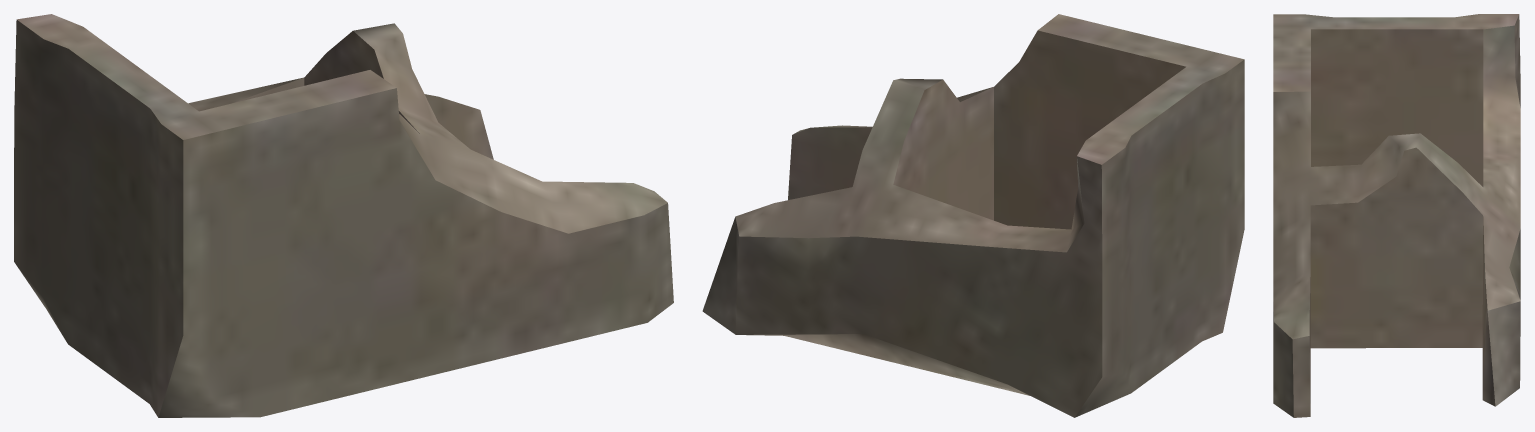
File: breeze_block_b.glb
3 views of the same model, side by side, from view 1: azimuth 30°, elevation 25°; view 2: azimuth 150°, elevation 25°; view 3: azimuth 270°, elevation 25° (orthographic). The views are drawn at different scales.
Visible parts, largest first — view 1: breeze_block_b; view 2: breeze_block_b; view 3: breeze_block_b.
Part boxes in pixels (box(x1,y1,x2,y2)): breeze_block_b: box(14, 14, 673, 417); breeze_block_b: box(702, 14, 1244, 417); breeze_block_b: box(1273, 14, 1520, 417).
Bounding box in the file's own units: 0.3774 × 0.2115 × 0.2142.
Materials: 1 (1 with a texture image).
